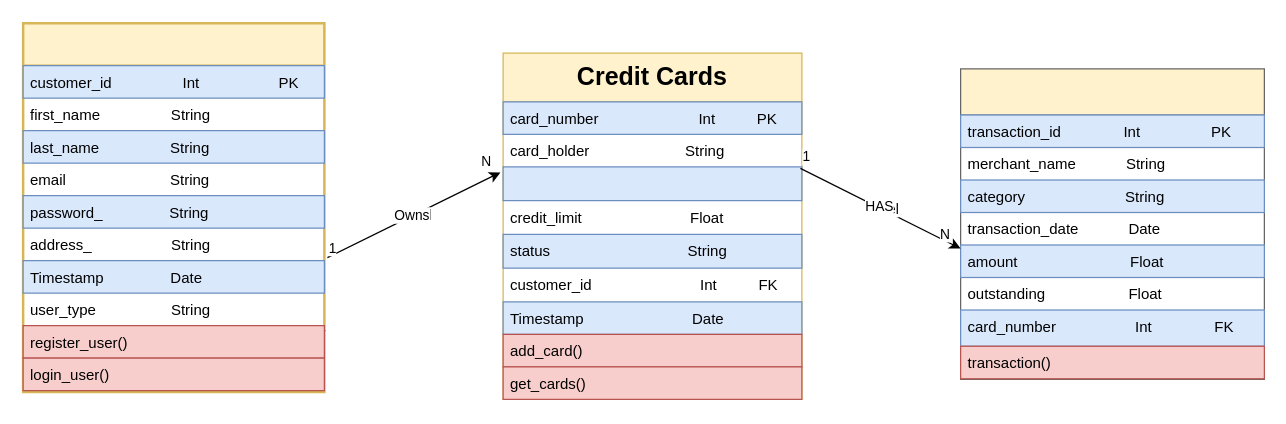
The diagram is 1286 pixels wide and 424 high, and some of its shapes have lost their labels. The shapes that lost their labels are listed below. From the top down, each one's box as (x1, y1, x2, y2) in pixels, then its label:
(502, 166, 802, 201): expiry_date Date
(21, 21, 325, 392): Users
(959, 68, 1264, 379): Transactions
